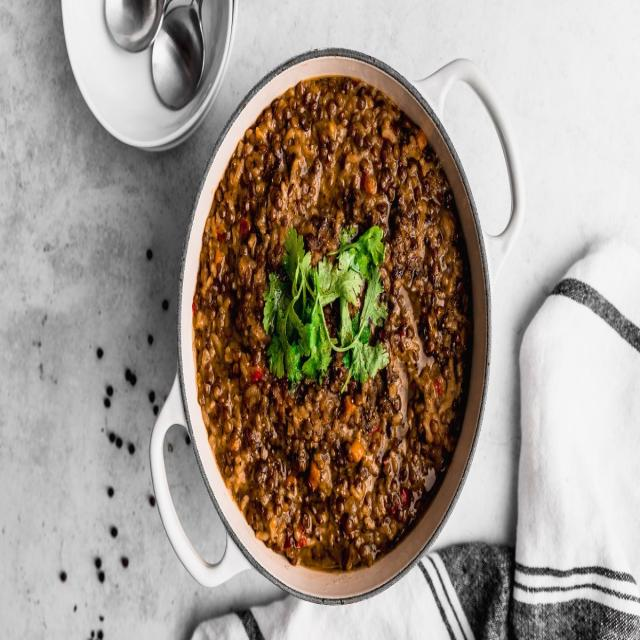lentejas: (187, 62, 478, 589)
